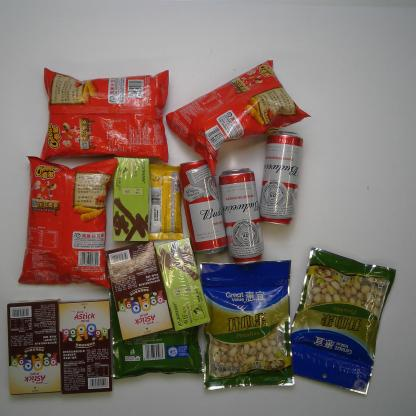Alcohol: (178, 159, 227, 256), (218, 168, 264, 265), (259, 129, 303, 226)
Chocolate: (149, 162, 184, 241)
Dessert: (104, 240, 173, 342), (58, 298, 112, 395), (7, 299, 61, 395)
Dried Fruit: (290, 246, 397, 395), (199, 259, 295, 390), (110, 286, 205, 380)
Instant Drink: (155, 237, 211, 332), (112, 155, 150, 243)
Puffed Food: (166, 59, 312, 178), (18, 156, 118, 290), (40, 67, 170, 164)
